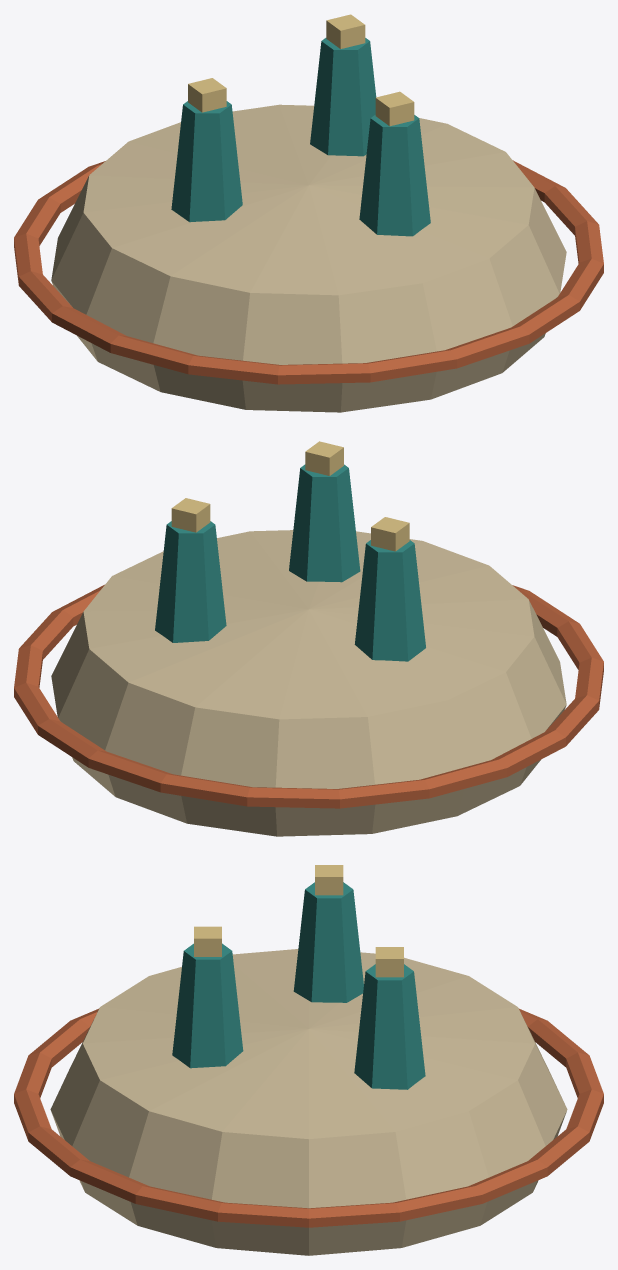
Rendered from hub.gltf.
3 renders of one model, top to bottom at view 1: azimuth 30°, elevation 25°; view 2: azimuth 150°, elevation 25°; view 3: azimuth 270°, elevation 25°, orthographic.
Parts seen in each view (by area): view 1: drum, towers, ring, lamps; view 2: drum, towers, ring, lamps; view 3: drum, towers, ring, lamps.
Boxes of the visible parts, box(x1,y1,x2,y2) form: drum: box(51, 104, 566, 412); towers: box(171, 38, 430, 236); ring: box(14, 160, 603, 384); lamps: box(188, 14, 414, 126); drum: box(51, 530, 566, 836); towers: box(155, 464, 425, 661); ring: box(14, 584, 603, 808); lamps: box(171, 441, 409, 551); drum: box(50, 949, 567, 1255); towers: box(172, 882, 425, 1089); ring: box(14, 1008, 603, 1227); lamps: box(194, 865, 403, 977).
Bounding box in the file's own units: 14.61 × 6.5 × 14.61.
